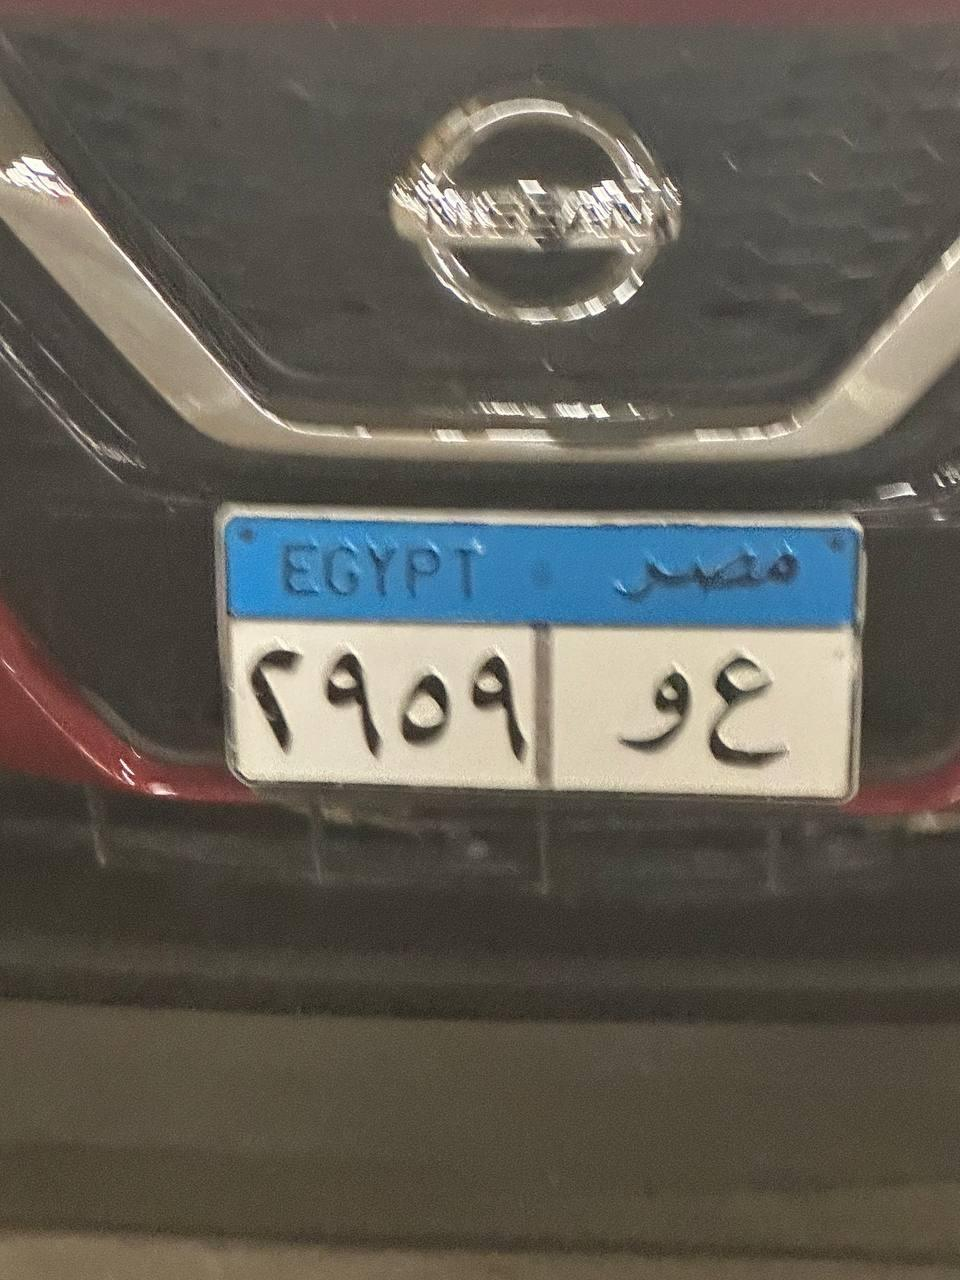2: (236, 630, 300, 760)
5: (396, 668, 458, 750)
9: (316, 640, 382, 756), (473, 648, 533, 760)
Een: (708, 638, 797, 774)
License Plate: (213, 488, 883, 814)
Wow: (623, 668, 693, 764)
